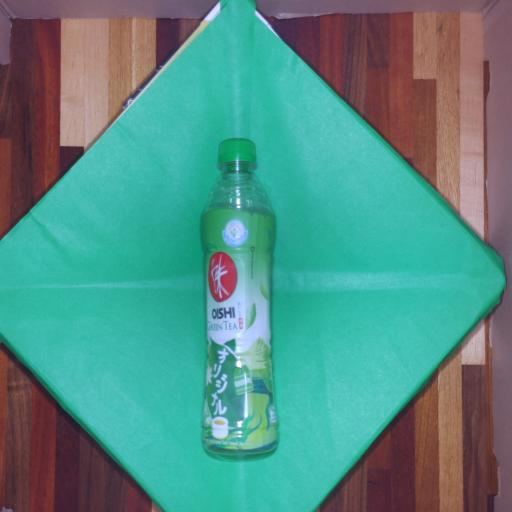bottle: (175, 102, 296, 463)
